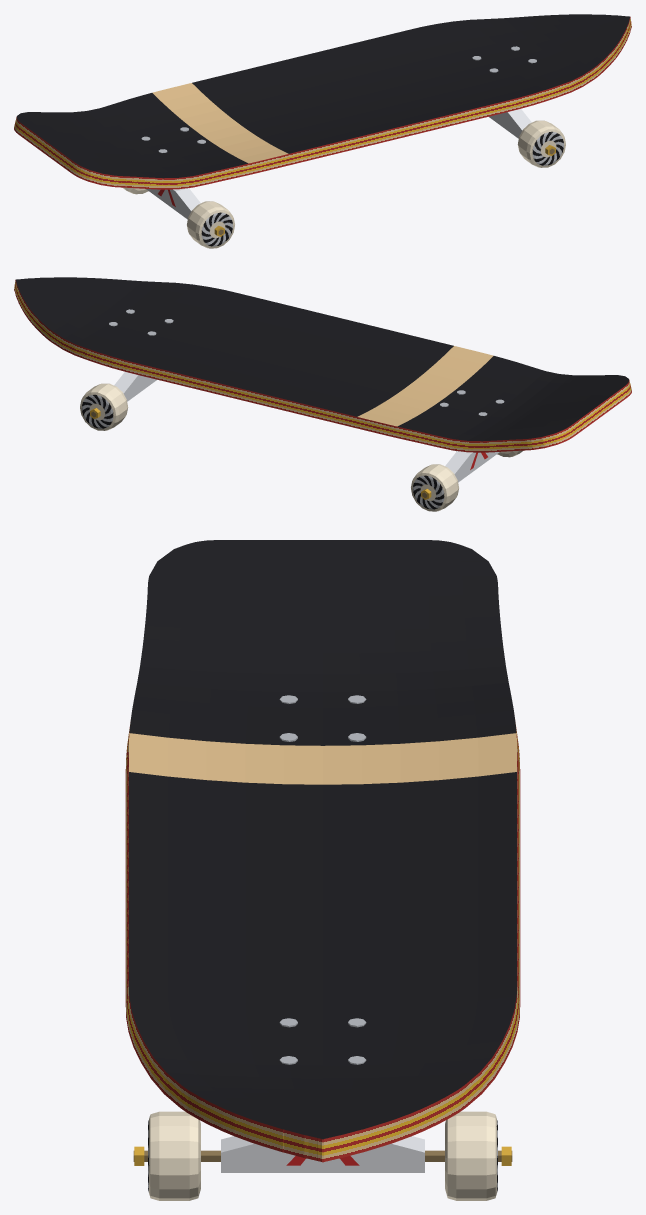
File: board-cruiser.glb
3 views of the same model, one above another, from view 1: azimuth 30°, elevation 25°; view 2: azimuth 150°, elevation 25°; view 3: azimuth 270°, elevation 25° (orthographic). The views are drawn at different scales.
Parts seen in each view (by area): view 1: Board; view 2: Board; view 3: Board.
Part boxes in pixels (<box>): Board: <box>14,14,631,248</box>; Board: <box>14,277,631,511</box>; Board: <box>125,540,520,1200</box>.
Bounding box in the file's own units: 0.9569 × 0.1646 × 0.2787.
11 materials, 2 textured.
